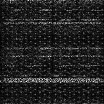lte: (1, 76, 104, 82), (1, 21, 104, 24), (1, 17, 104, 20)
